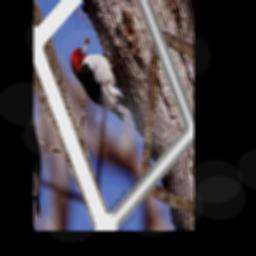Woodpecker: (67, 20, 133, 146)
